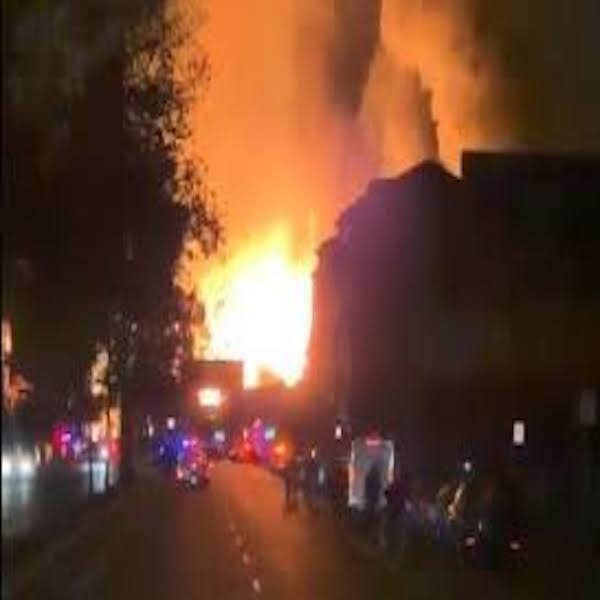fire: (193, 118, 319, 361), (380, 106, 463, 166)
